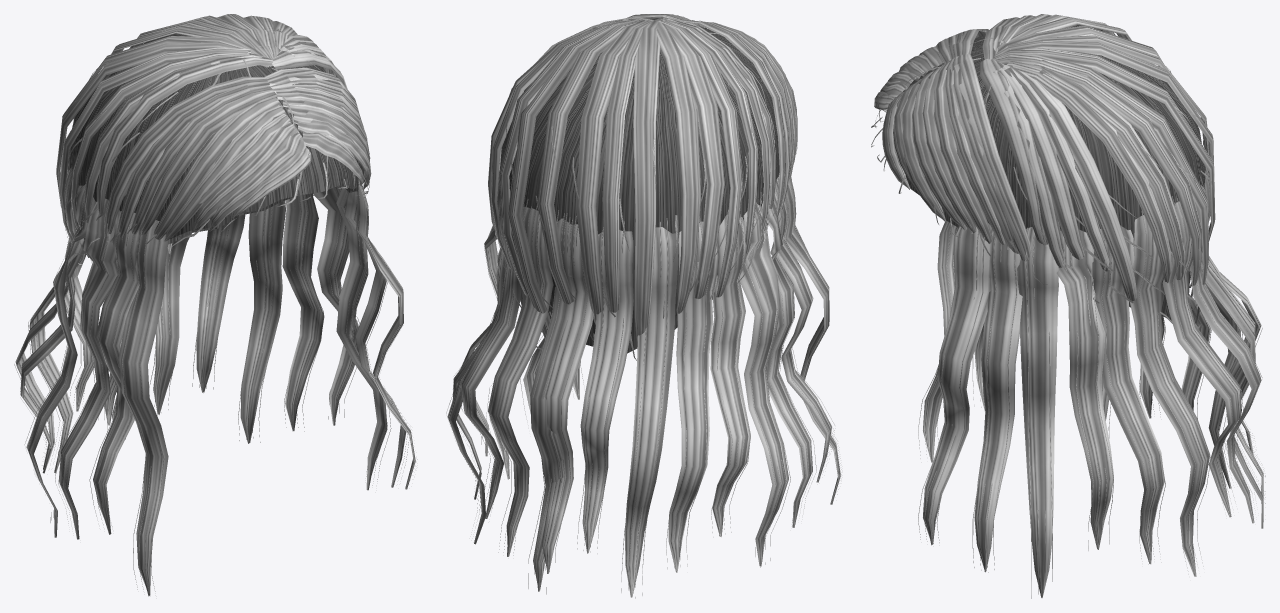
Rendered from unified_m_swept.glb.
3 views of the same model, side by side, from view 1: azimuth 30°, elevation 25°; view 2: azimuth 150°, elevation 25°; view 3: azimuth 270°, elevation 25° (orthographic). The views are drawn at different scales.
Parts seen in each view (by area): view 1: Hair_directional_locks, Hair_wavy_layer, Hair_scalp, Hair_wavy_layer.014, Hair_wavy_layer.002, Hair_wavy_layer.001, Hair_wavy_layer.013, Hair_wavy_layer.015, Hair_wavy_layer.011, Hair_wavy_layer.012, Hair_wavy_layer.003, Hair_wavy_layer.016 (+10 smaller); view 2: Hair_directional_locks, Hair_scalp, Hair_wavy_layer.006, Hair_wavy_layer.007, Hair_wavy_layer.005, Hair_wavy_layer.003, Hair_wavy_layer.004, Hair_wavy_layer.016, Hair_wavy_layer.008, Hair_wavy_layer.017, Hair_wavy_layer.002, Hair_wavy_layer.015 (+15 smaller); view 3: Hair_directional_locks, Hair_wavy_layer.011, Hair_wavy_layer.010, Hair_wavy_layer.009, Hair_wavy_layer.012, Hair_wavy_layer.014, Hair_scalp, Hair_wavy_layer.013, Hair_wavy_layer.015, Hair_wavy_layer.016, Hair_wavy_layer, Hair_wavy_layer.017 (+12 smaller).
Boxes of the visible parts, bbox=[...] form: Hair_directional_locks: bbox=[56, 14, 371, 257]; Hair_wavy_layer: bbox=[118, 220, 168, 596]; Hair_scalp: bbox=[68, 33, 358, 257]; Hair_wavy_layer.014: bbox=[240, 200, 285, 443]; Hair_wavy_layer.002: bbox=[59, 198, 119, 539]; Hair_wavy_layer.001: bbox=[93, 211, 139, 534]; Hair_wavy_layer.013: bbox=[282, 193, 324, 431]; Hair_wavy_layer.015: bbox=[196, 214, 245, 392]; Hair_wavy_layer.011: bbox=[336, 186, 387, 490]; Hair_wavy_layer.012: bbox=[313, 185, 358, 425]; Hair_wavy_layer.003: bbox=[27, 185, 96, 537]; Hair_wavy_layer.016: bbox=[153, 233, 191, 415]; Hair_directional_locks: bbox=[488, 14, 797, 341]; Hair_scalp: bbox=[500, 25, 779, 353]; Hair_wavy_layer.006: bbox=[625, 227, 678, 597]; Hair_wavy_layer.007: bbox=[580, 229, 633, 553]; Hair_wavy_layer.005: bbox=[668, 221, 717, 572]; Hair_wavy_layer.003: bbox=[739, 203, 788, 566]; Hair_wavy_layer.004: bbox=[710, 215, 750, 536]; Hair_wavy_layer.016: bbox=[488, 206, 553, 556]; Hair_wavy_layer.008: bbox=[542, 224, 593, 573]; Hair_wavy_layer.017: bbox=[530, 218, 574, 591]; Hair_wavy_layer.002: bbox=[762, 195, 812, 527]; Hair_wavy_layer.015: bbox=[461, 190, 520, 518]; Hair_directional_locks: bbox=[874, 14, 1215, 324]; Hair_wavy_layer.011: bbox=[1017, 227, 1058, 597]; Hair_wavy_layer.010: bbox=[974, 228, 1022, 572]; Hair_wavy_layer.009: bbox=[923, 223, 991, 545]; Hair_wavy_layer.012: bbox=[1056, 229, 1113, 549]; Hair_wavy_layer.014: bbox=[1130, 215, 1210, 576]; Hair_scalp: bbox=[903, 26, 1205, 320]; Hair_wavy_layer.013: bbox=[1092, 225, 1164, 564]; Hair_wavy_layer.015: bbox=[1162, 201, 1241, 517]; Hair_wavy_layer.016: bbox=[1189, 185, 1261, 523]; Hair_wavy_layer: bbox=[923, 220, 958, 462]; Hair_wavy_layer.017: bbox=[1201, 170, 1263, 528].
Bounding box in the file's own units: 0.1286 × 0.1802 × 0.1306.
2 materials, 2 textured.
